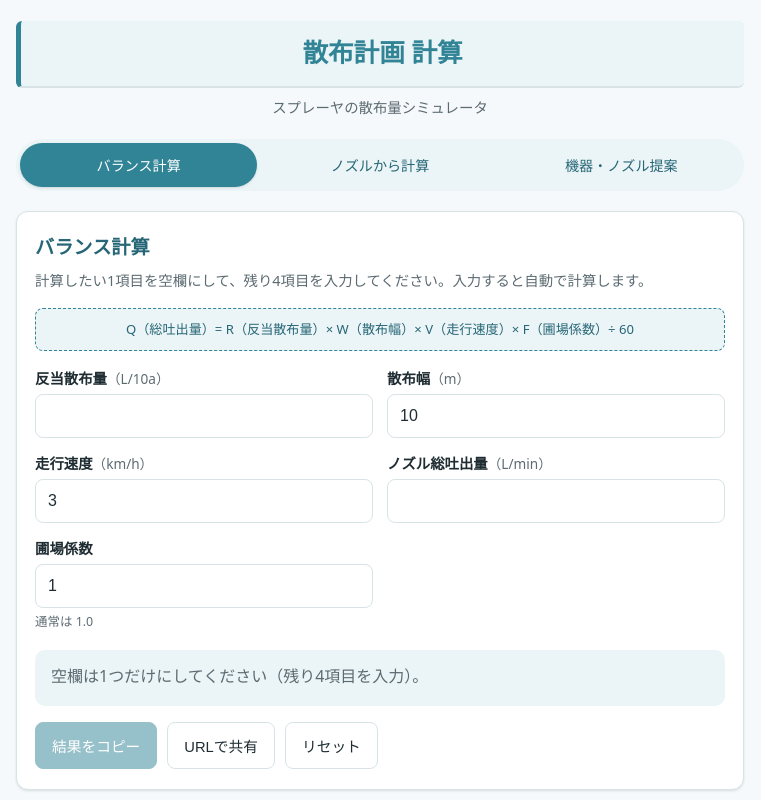
Scenario: App smoke › fills crop-specific defaults and warns on an out-of-range volume
This screenshot has width=761, height=800.
Click the tab "機器・ノズル提案" at coordinates (621, 165), box [503, 143, 740, 187]
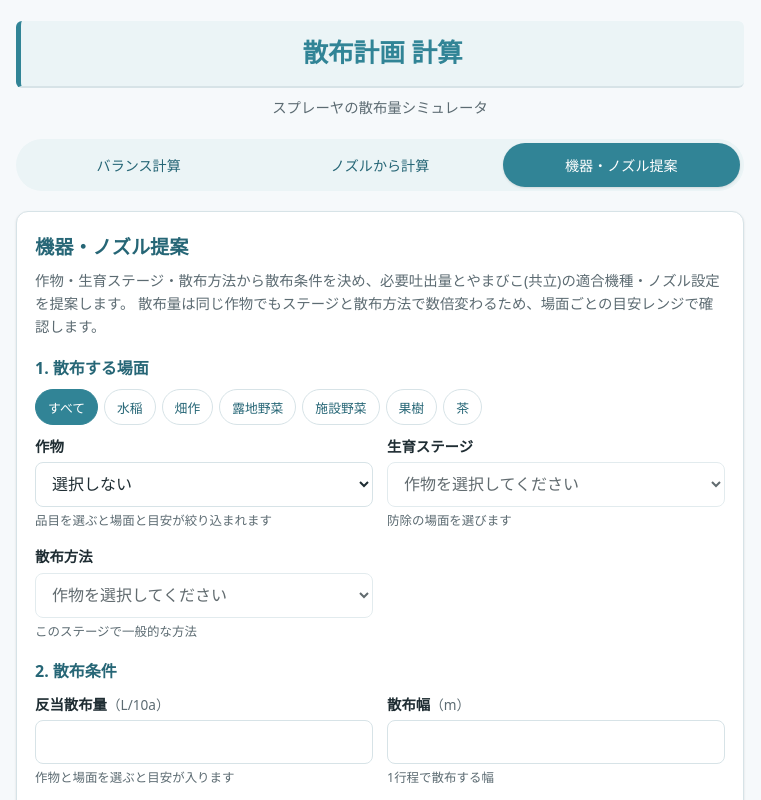
Select "りんご（200〜600 L/10a）" in the dropdown labelled "作物" at coordinates (204, 485), box [35, 462, 373, 508]
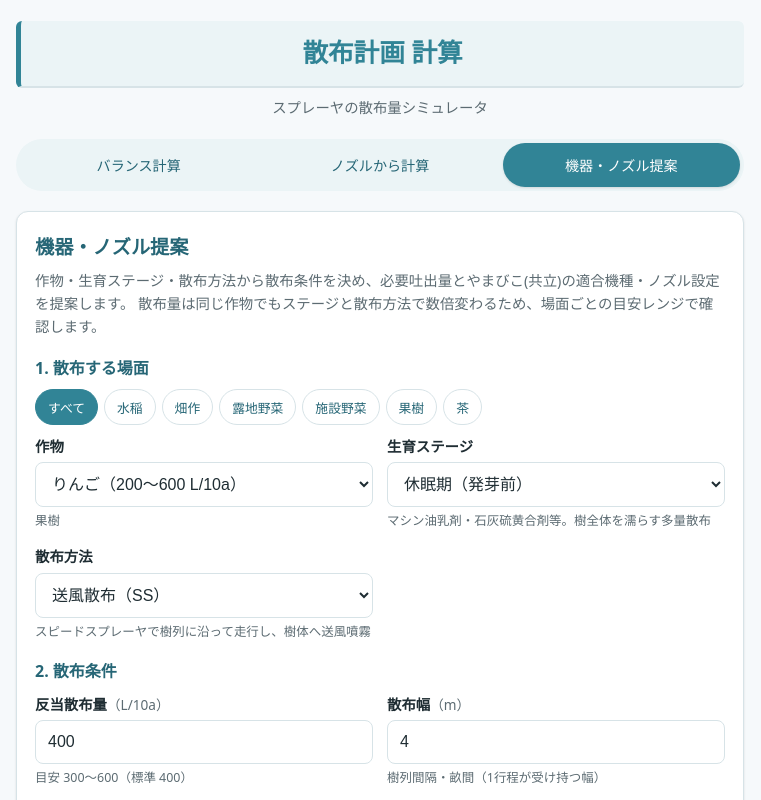
Expected: the number field labelled "反当散布量（L/10a）" holds "400"
Expected: the number field labelled "散布幅（m）" holds "4", [387, 720, 725, 764]
# ブーム散布の感覚で 25 L/10a を入れると、場面の目安から外れていることを警告する。
Replace the text in the number field labelled "反当散布量（L/10a）" with "25" at coordinates (204, 742), box [35, 720, 373, 764]
(page scrolled)
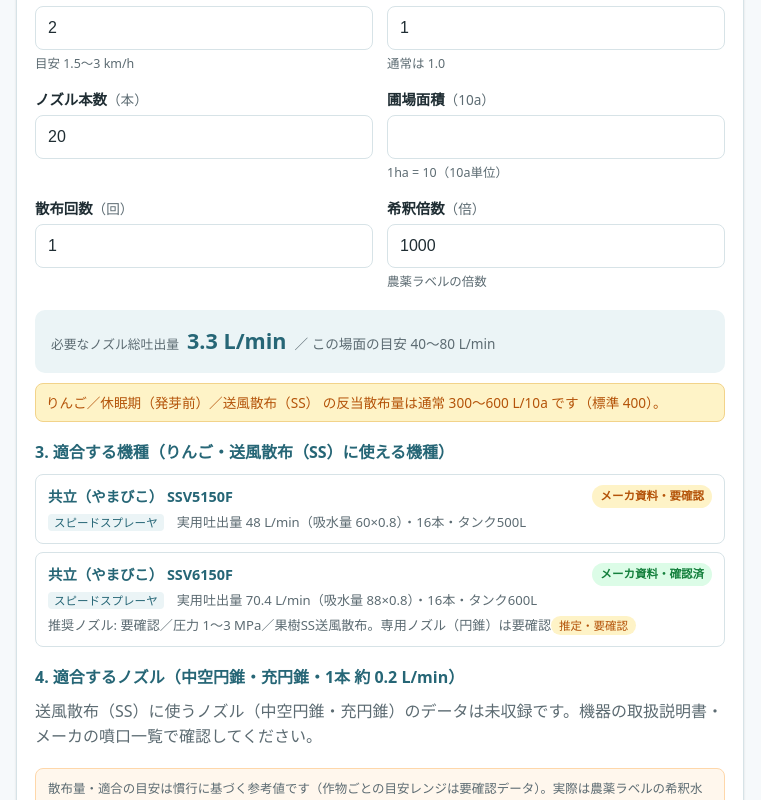
Expected: the list item "りんご／休眠期（発芽前）／送風散布（SS） の反当散布量は通常 300〜600 L/10a です（標準 400）。" is shown, [35, 383, 725, 422]
